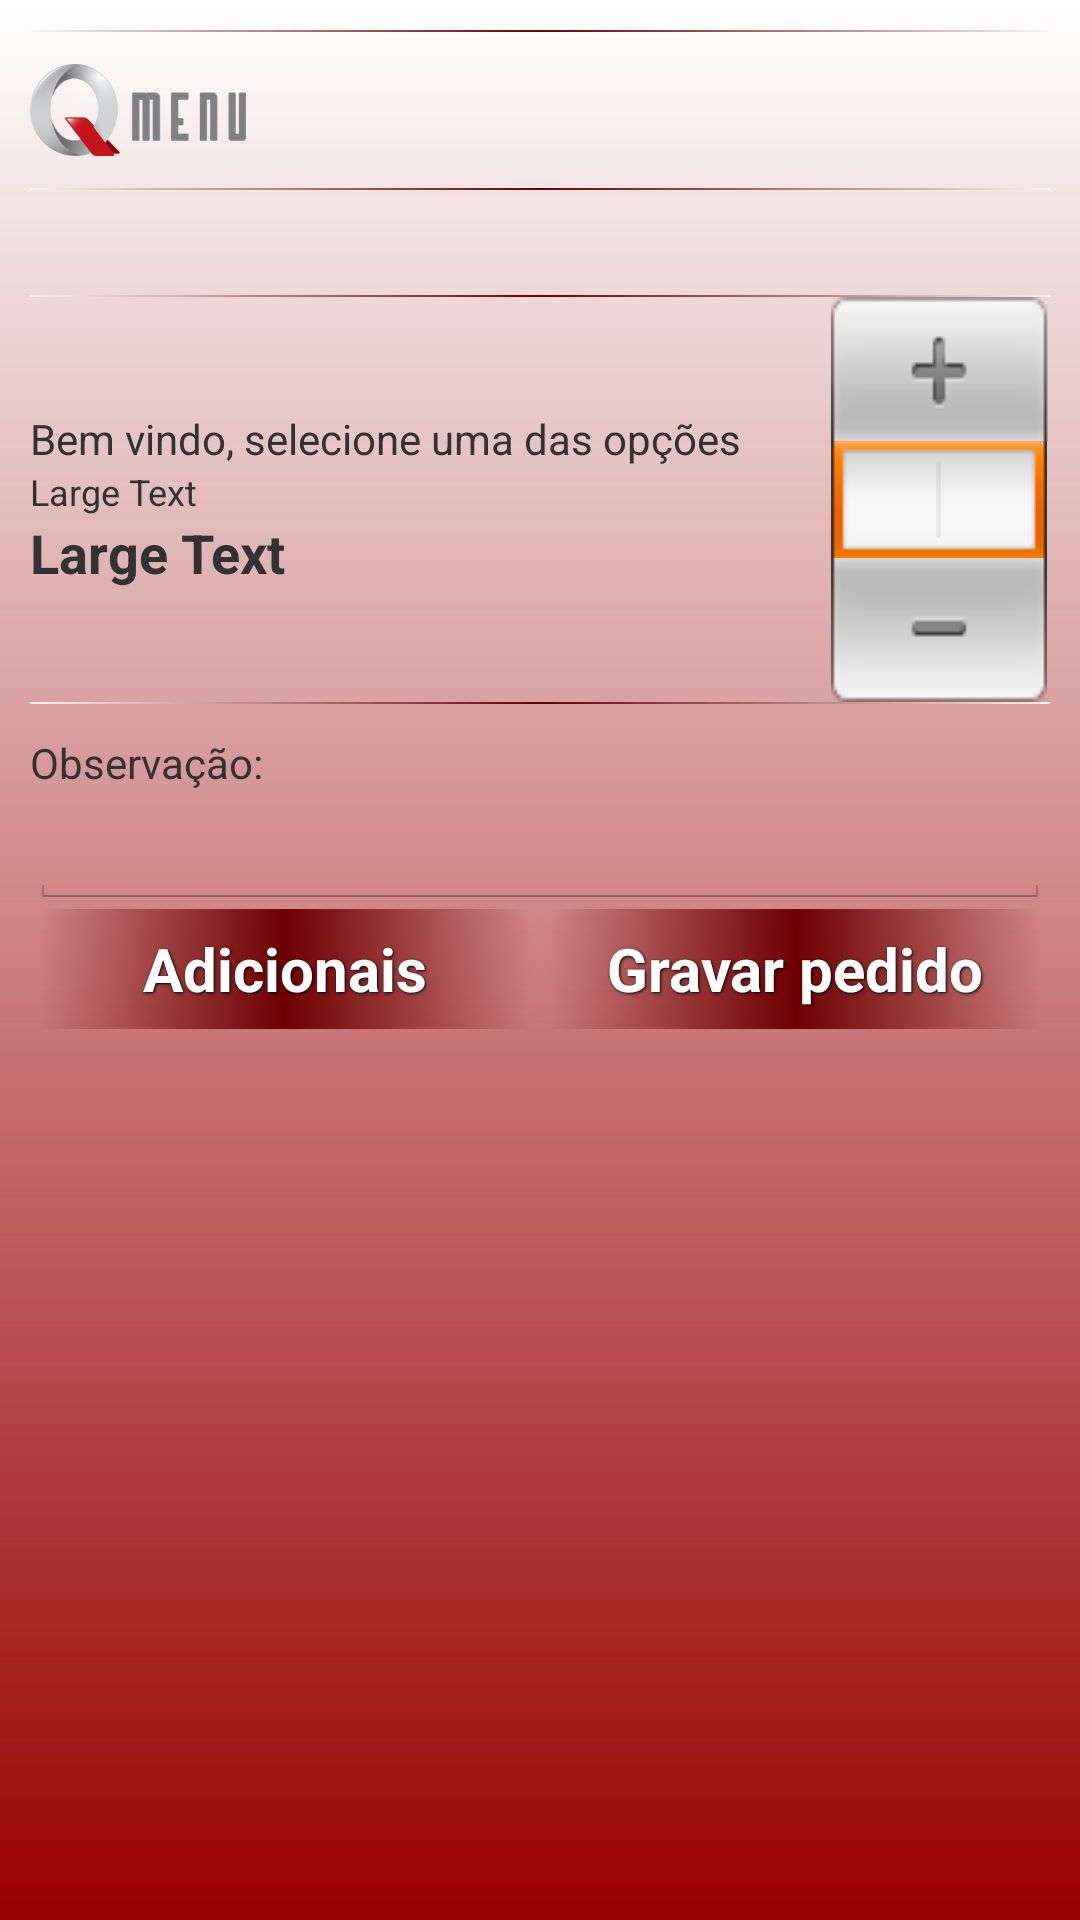

Locate icon controls on the screen. Image size 1080 x 1920, boxes as (x1, y1, x2, y2).
timepicker down: (831, 558, 1047, 702)
timepicker up: (831, 297, 1048, 441)
